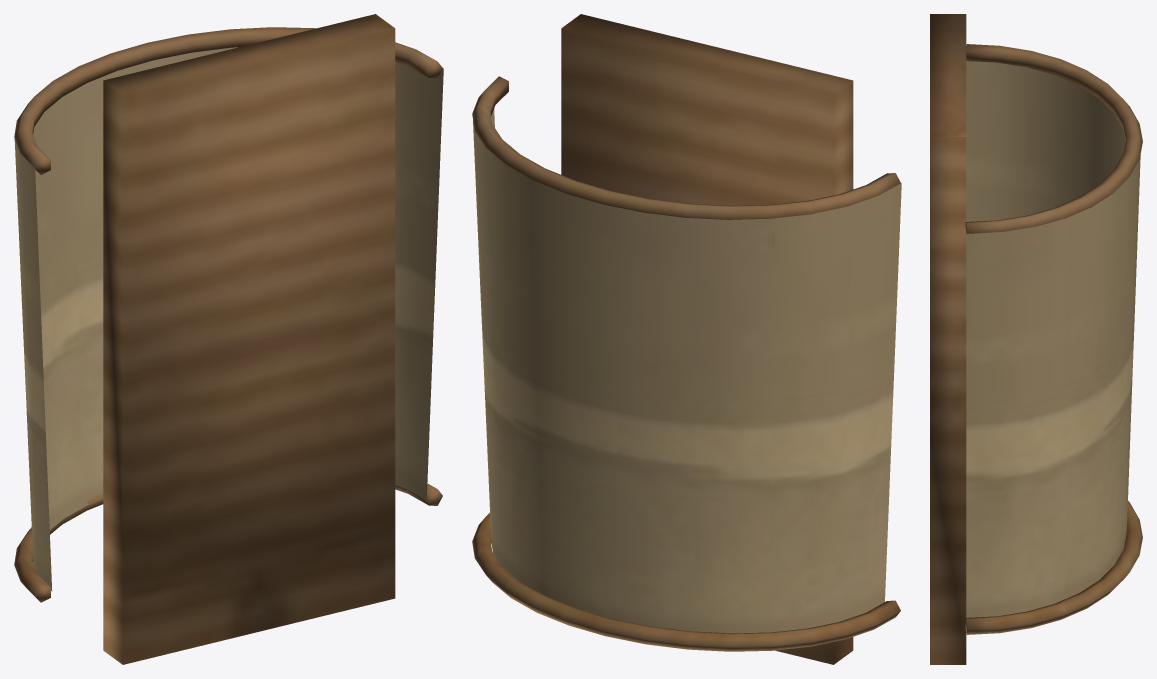
The model's file is sconce.glb.
The picture shows the model from 3 angles, left to right: view 1: azimuth 30°, elevation 25°; view 2: azimuth 150°, elevation 25°; view 3: azimuth 270°, elevation 25°; orthographic projection. The views are drawn at different scales.
Visible parts, largest first — view 1: prop_sconce_wood, prop_sconce_paper; view 2: prop_sconce_paper, prop_sconce_wood; view 3: prop_sconce_paper, prop_sconce_wood.
Boxes of the visible parts, x1=… form: prop_sconce_wood: x1=14, y1=14, x2=442, y2=664; prop_sconce_paper: x1=14, y1=47, x2=443, y2=591; prop_sconce_paper: x1=473, y1=109, x2=901, y2=633; prop_sconce_wood: x1=472, y1=14, x2=900, y2=664; prop_sconce_paper: x1=966, y1=61, x2=1140, y2=617; prop_sconce_wood: x1=930, y1=14, x2=1142, y2=664.
Size of the model in its own units: 0.48 by 0.64 by 0.234.
Materials: 2 (2 with a texture image).
